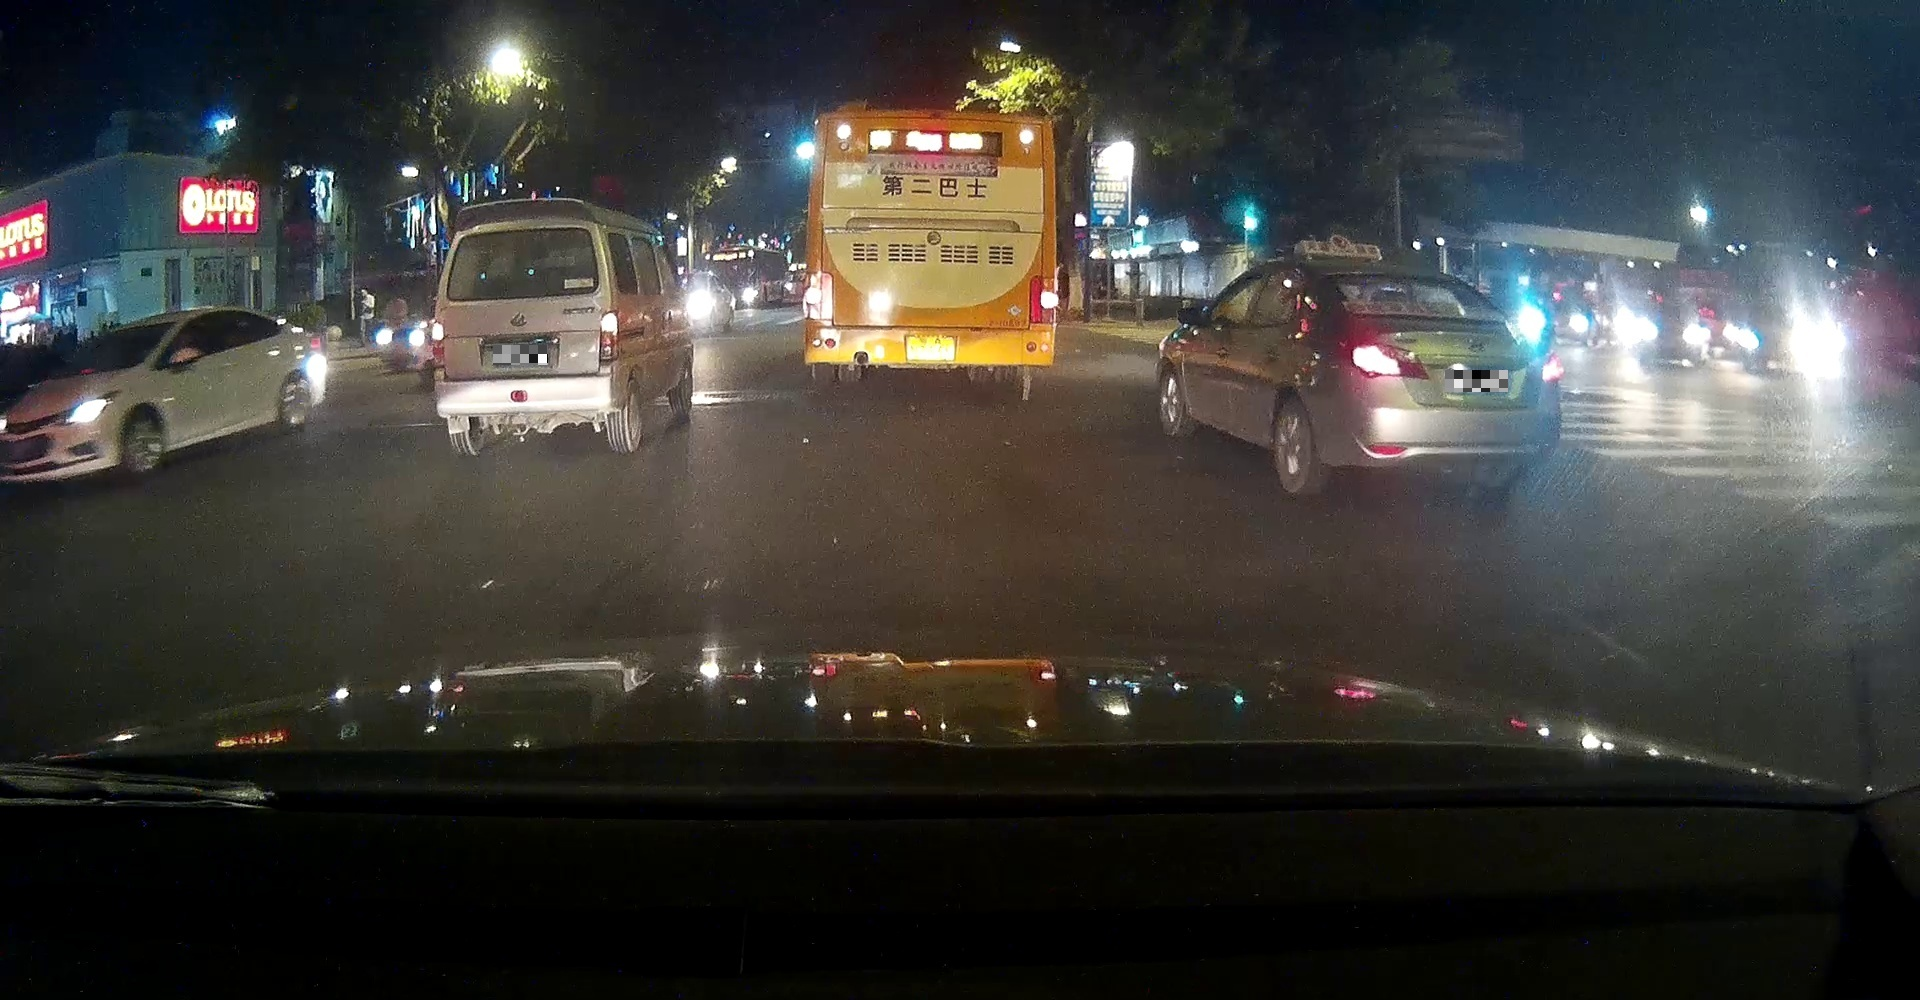L_light: (1352, 341, 1429, 379), (805, 272, 833, 320), (432, 322, 444, 367)
R_light: (1029, 275, 1057, 324), (601, 311, 618, 360), (1542, 352, 1562, 382)
T_light: (504, 228, 538, 239), (1377, 273, 1413, 282), (919, 118, 952, 127)
night-no: (803, 108, 1058, 383), (1322, 256, 1562, 494), (430, 197, 620, 456)
plate_1: (493, 345, 549, 365)
plate_2: (1445, 371, 1509, 392)
